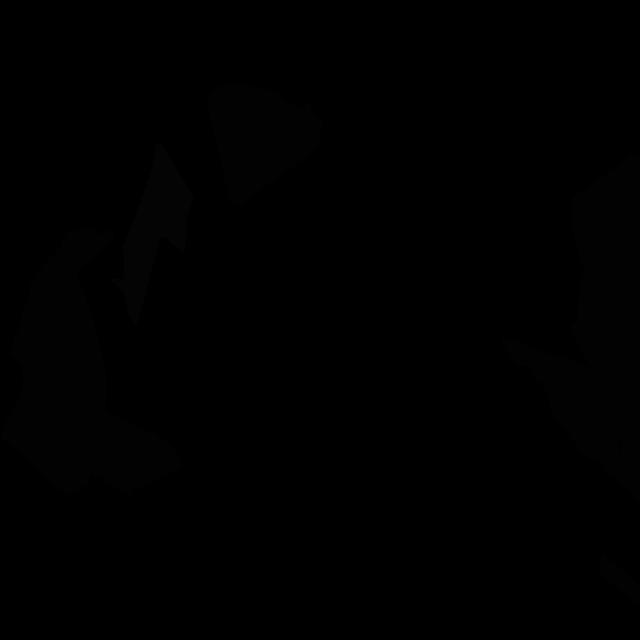cardboard: (0, 227, 114, 495), (571, 210, 640, 504), (502, 335, 631, 481), (48, 389, 182, 498), (208, 84, 324, 208), (570, 154, 640, 262), (599, 553, 640, 608)
soft_plastic: (110, 143, 194, 326)
